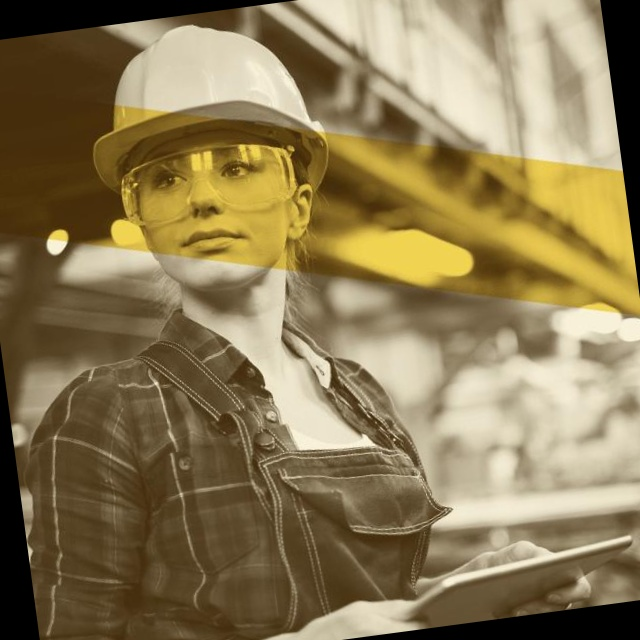goggles: (324, 123, 506, 223)
helmet: (324, 12, 521, 176)
